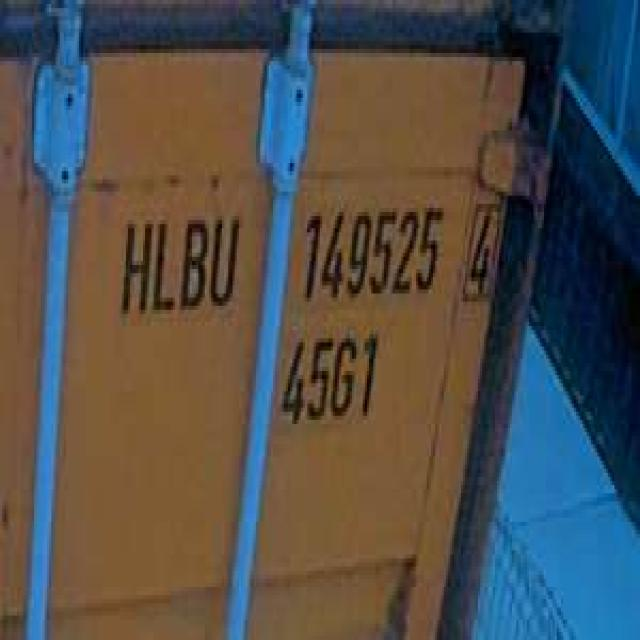dv: (461, 183, 503, 310)
owner: (115, 200, 243, 326)
serial: (296, 192, 444, 306)
size: (277, 318, 386, 432)
